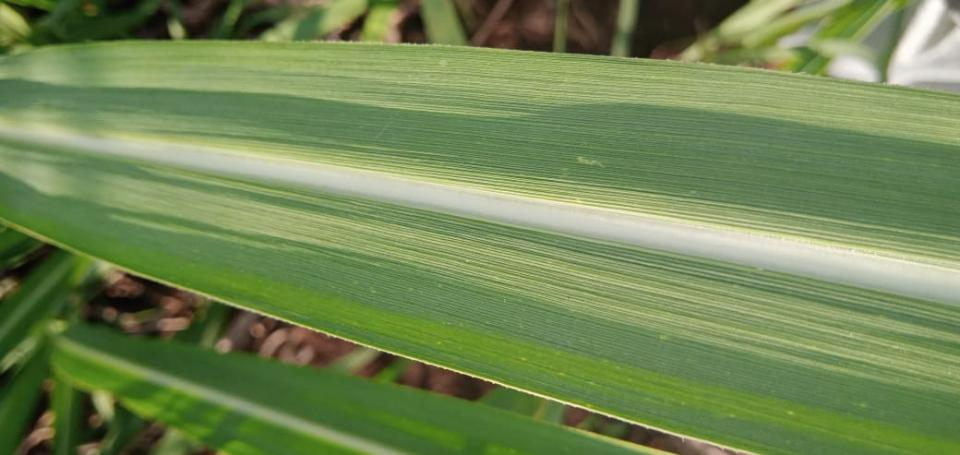Healthy: (0, 142, 959, 454), (0, 42, 959, 268), (57, 324, 636, 454), (52, 341, 367, 454)
